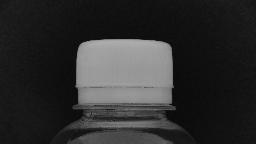Good Cap: (66, 33, 178, 115)
